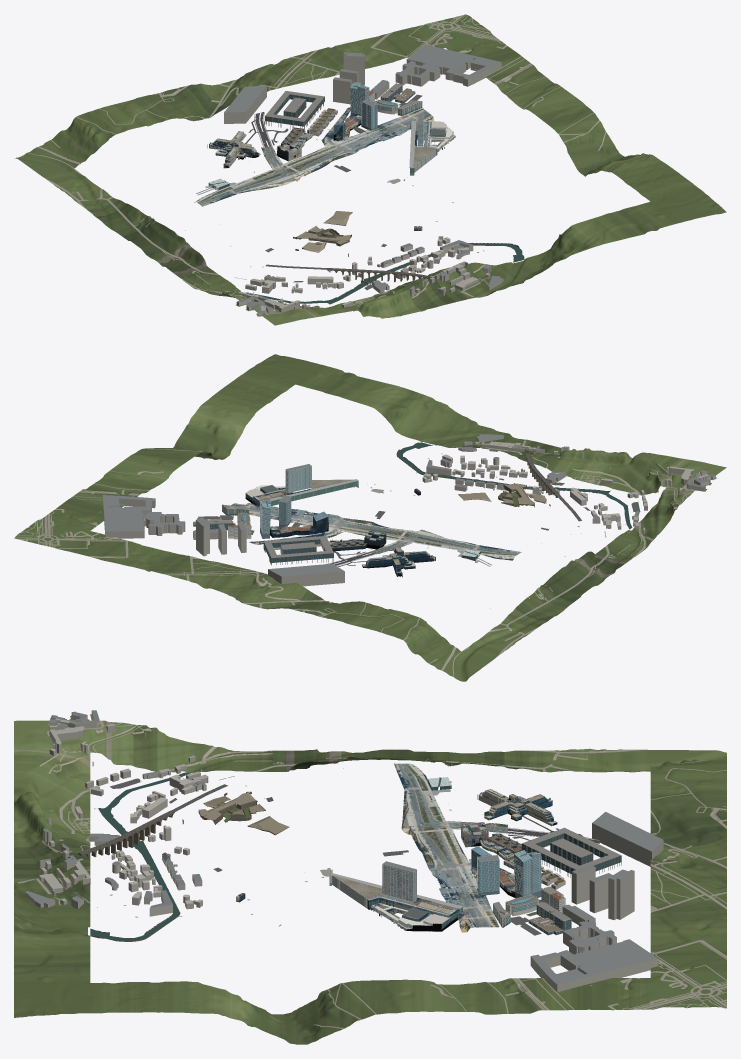
The model's file is authored-district.glb.
3 views of the same model, one above another, from view 1: azimuth 30°, elevation 25°; view 2: azimuth 150°, elevation 25°; view 3: azimuth 270°, elevation 25° (orthographic). The views are drawn at different scales.
Visible parts, largest first — view 1: R182_EXTENSION_GROUND, R168_SOURCE_JUNCTION, R182_EXTENSION_ROADS, R188_BACKGROUND_rel18163400, R162_MEASURED_ENVELOPE, R188_BACKGROUND_51071558, R176_ANNEAU, R164_MEASURED_ENVELOPE, R188_BACKGROUND_rel4283127, R202_ALZETTE_00, R166_MEASURED_ENVELOPE; view 2: R182_EXTENSION_GROUND, R182_EXTENSION_ROADS, R168_SOURCE_JUNCTION, R188_BACKGROUND_rel18163400, R162_MEASURED_ENVELOPE, R188_BACKGROUND_51071558, R176_ANNEAU, R164_MEASURED_ENVELOPE, R188_BACKGROUND_rel4283127, R202_ALZETTE_00, R278_A_RECESSED_GLAZING; view 3: R182_EXTENSION_GROUND, R182_EXTENSION_ROADS, R168_SOURCE_JUNCTION, R188_BACKGROUND_rel18163400, R162_MEASURED_ENVELOPE, R188_BACKGROUND_51071558, R176_ANNEAU, R166_MEASURED_ENVELOPE, R202_ALZETTE_00, R188_BACKGROUND_659961054, R188_BACKGROUND_rel4283127, R164_MEASURED_ENVELOPE (+6 smaller).
Boxes of the visible parts, left/top/right/bottom form: R182_EXTENSION_GROUND: left=15, top=14, right=726, bottom=325; R168_SOURCE_JUNCTION: left=194, top=107, right=434, bottom=206; R182_EXTENSION_ROADS: left=27, top=14, right=606, bottom=314; R188_BACKGROUND_rel18163400: left=406, top=44, right=501, bottom=86; R162_MEASURED_ENVELOPE: left=207, top=127, right=313, bottom=168; R188_BACKGROUND_51071558: left=224, top=85, right=266, bottom=123; R176_ANNEAU: left=265, top=91, right=324, bottom=126; R164_MEASURED_ENVELOPE: left=277, top=114, right=361, bottom=161; R188_BACKGROUND_rel4283127: left=395, top=61, right=440, bottom=86; R202_ALZETTE_00: left=249, top=243, right=524, bottom=303; R166_MEASURED_ENVELOPE: left=414, top=121, right=455, bottom=174; R182_EXTENSION_GROUND: left=14, top=354, right=726, bottom=681; R182_EXTENSION_ROADS: left=15, top=440, right=696, bottom=676; R168_SOURCE_JUNCTION: left=231, top=503, right=521, bottom=560; R188_BACKGROUND_rel18163400: left=102, top=495, right=155, bottom=538; R162_MEASURED_ENVELOPE: left=328, top=539, right=435, bottom=577; R188_BACKGROUND_51071558: left=268, top=563, right=344, bottom=586; R176_ANNEAU: left=263, top=536, right=333, bottom=562; R164_MEASURED_ENVELOPE: left=270, top=511, right=386, bottom=549; R188_BACKGROUND_rel4283127: left=144, top=512, right=185, bottom=535; R202_ALZETTE_00: left=396, top=442, right=632, bottom=529; R278_A_RECESSED_GLAZING: left=285, top=466, right=311, bottom=492; R182_EXTENSION_GROUND: left=14, top=720, right=726, bottom=1044; R182_EXTENSION_ROADS: left=18, top=720, right=726, bottom=1028; R168_SOURCE_JUNCTION: left=394, top=763, right=542, bottom=932; R188_BACKGROUND_rel18163400: left=530, top=939, right=658, bottom=992; R162_MEASURED_ENVELOPE: left=477, top=789, right=557, bottom=860; R188_BACKGROUND_51071558: left=592, top=811, right=663, bottom=866; R176_ANNEAU: left=521, top=827, right=621, bottom=873; R166_MEASURED_ENVELOPE: left=329, top=875, right=462, bottom=931; R202_ALZETTE_00: left=90, top=772, right=191, bottom=941; R188_BACKGROUND_659961054: left=608, top=869, right=634, bottom=920; R188_BACKGROUND_rel4283127: left=563, top=921, right=616, bottom=954; R164_MEASURED_ENVELOPE: left=461, top=822, right=515, bottom=897.
Size of the model in its own units: 1428 by 182 by 1400.
115 materials, 10 textured.
